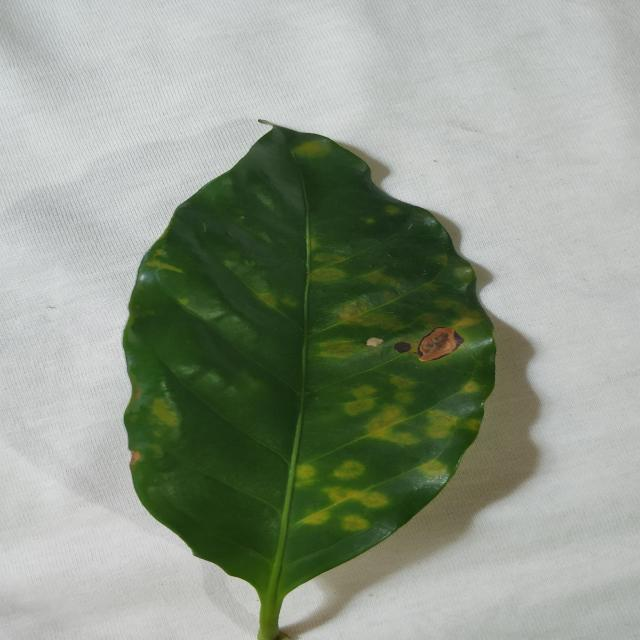Enfermedad-Roya: (120, 126, 497, 640)
